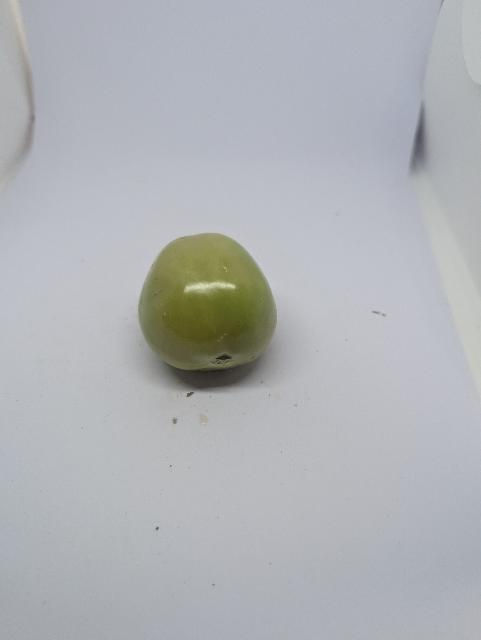green: (134, 230, 281, 374)
